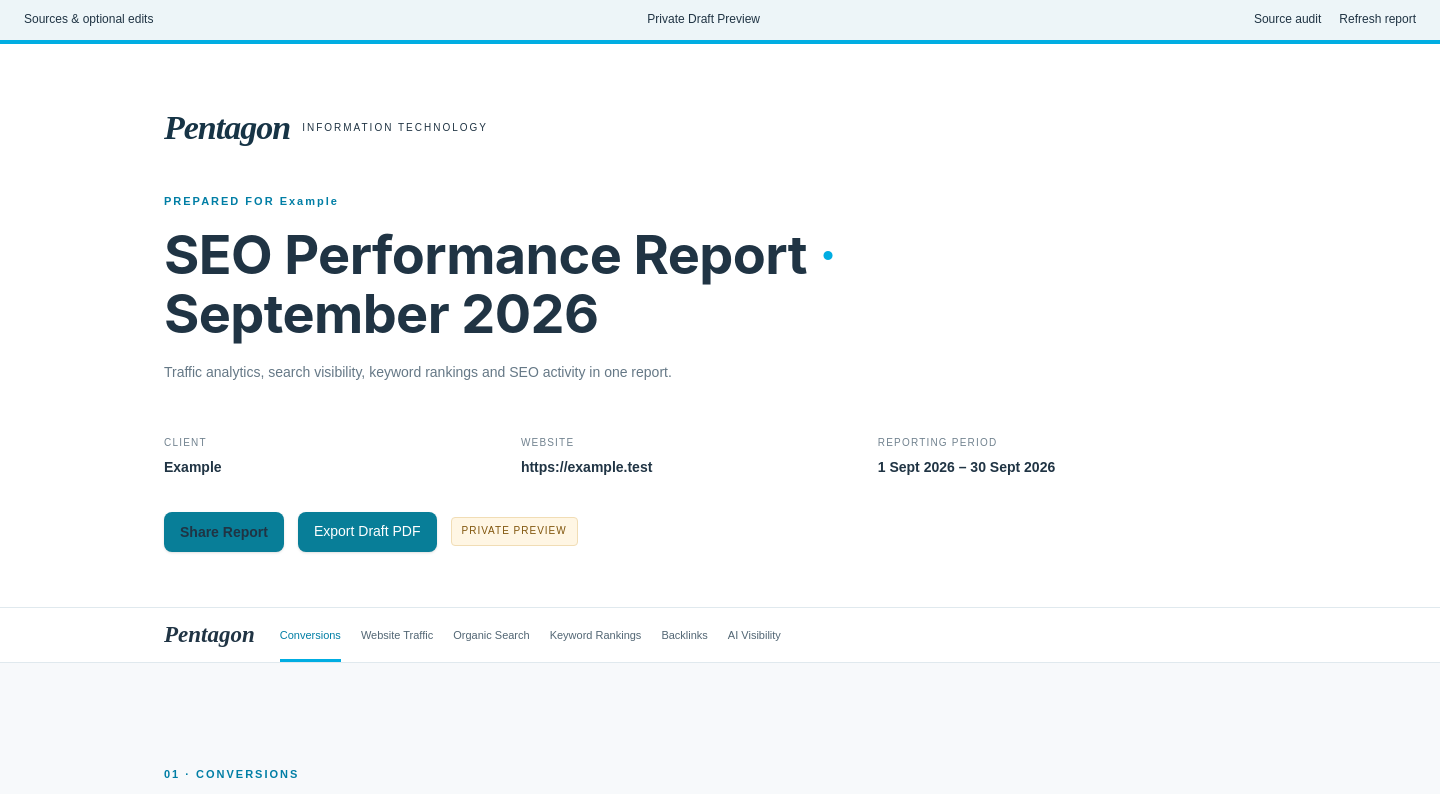
requests only a private client-style export
The width and height of the screenshot is (1440, 794).
Click the button "Export Draft PDF" at {"x": 367, "y": 532}, box [298,512,436,552]
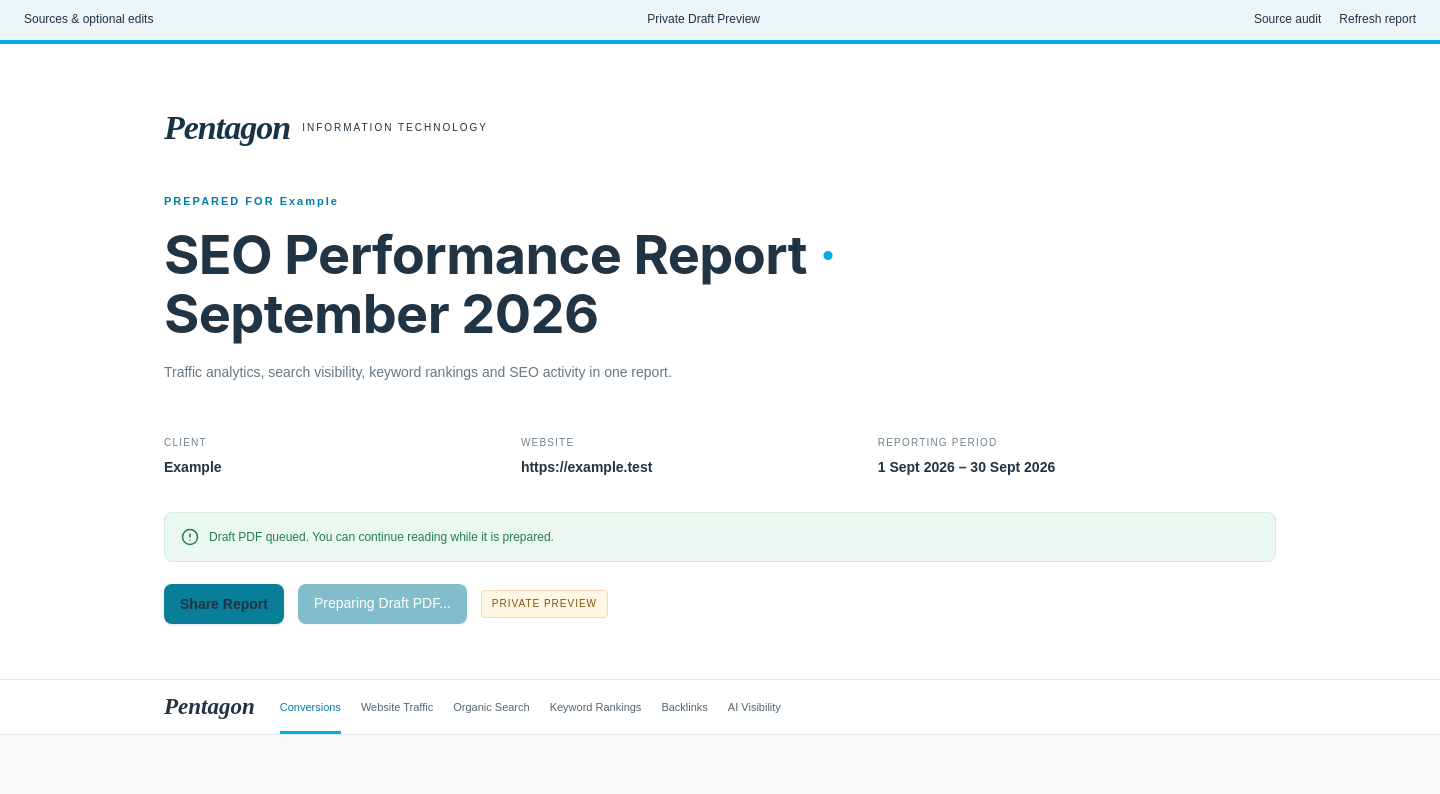
Expected: the text "Draft PDF queued" is shown, [209,530,554,544]
